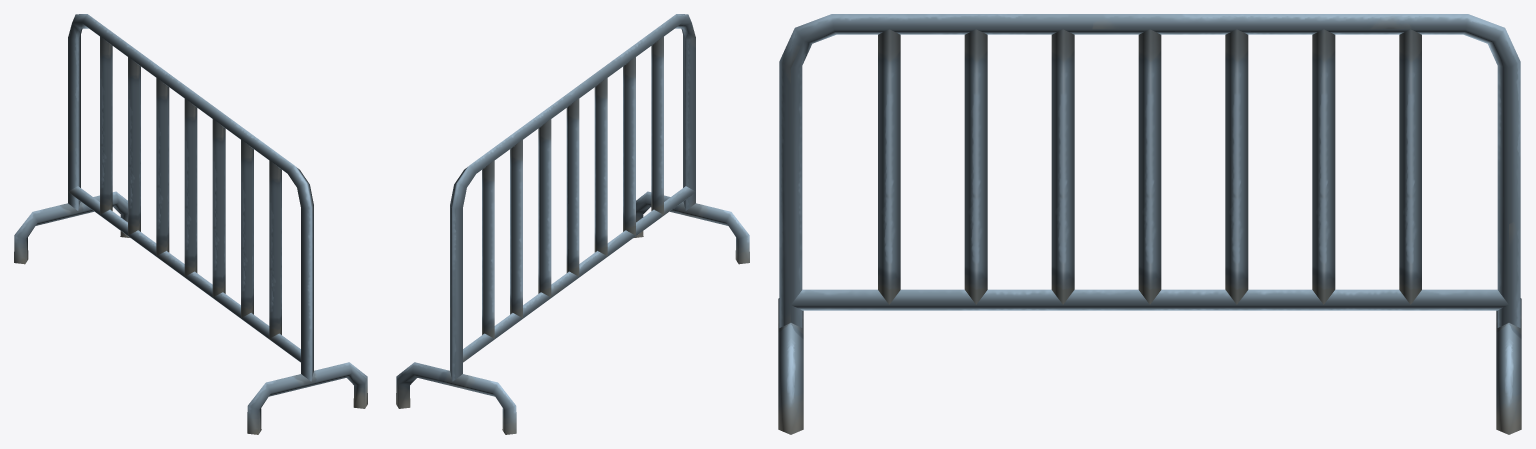
The model's file is trafficBarricade05.fbx.
The picture shows the model from 3 angles, left to right: view 1: azimuth 30°, elevation 25°; view 2: azimuth 150°, elevation 25°; view 3: azimuth 270°, elevation 25°; orthographic projection. The views are drawn at different scales.
Parts seen in each view (by area): view 1: trafficBarricade05; view 2: trafficBarricade05; view 3: trafficBarricade05.
Boxes of the visible parts, x1,y1,x2,y2 form: trafficBarricade05: [14, 14, 367, 434]; trafficBarricade05: [396, 14, 749, 434]; trafficBarricade05: [778, 14, 1521, 434].
Size of the model in its own units: 74.74 by 144 by 259.
